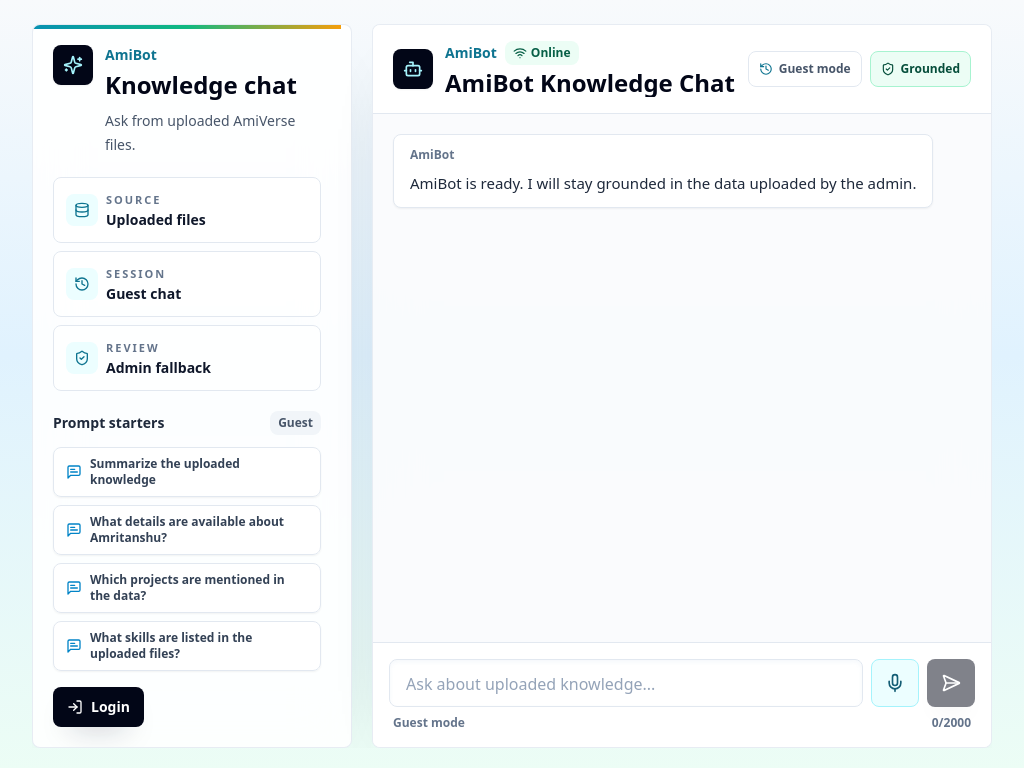
Test: recovers from a non-JSON error and excludes the error from subsequent model context
This screenshot has width=1024, height=768.
Type "When will the next project launch?" into the text box named "type your message" at (626, 683), box [389,659,863,707]
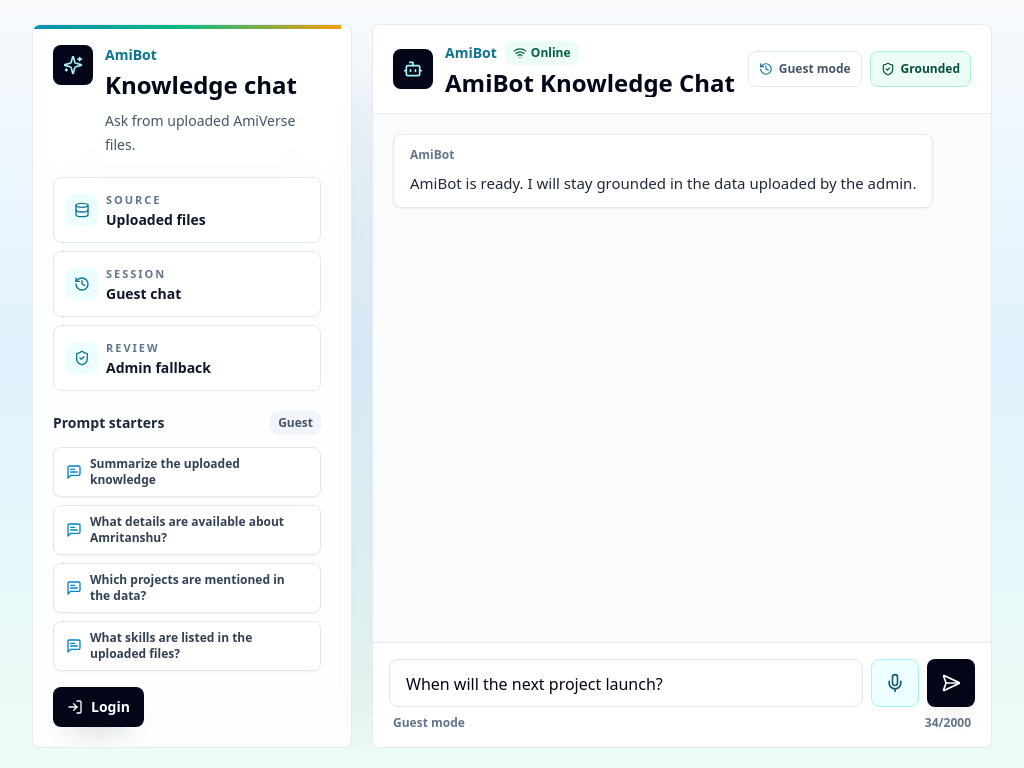
Click the button named "send message" at (951, 683), box [927,659,975,707]
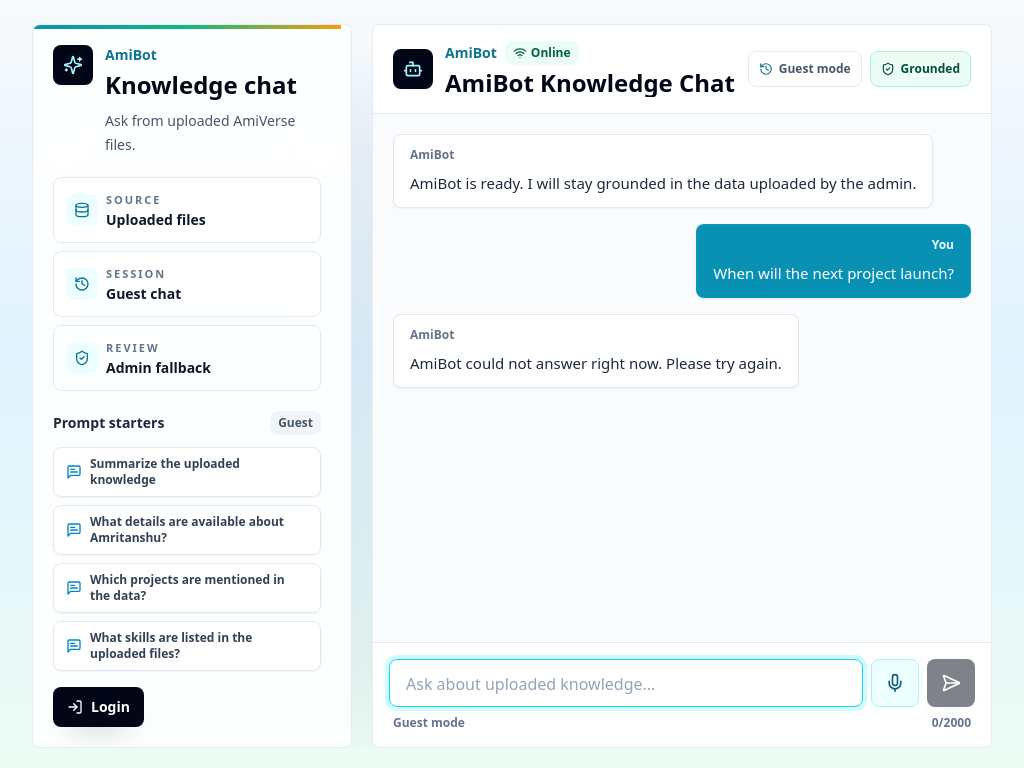
Expected: the text "AmiBot could not answer right now. Please try again." is shown, [410,351,782,375]
Type "Try again" into the text box named "type your message" at (626, 683), box [389,659,863,707]
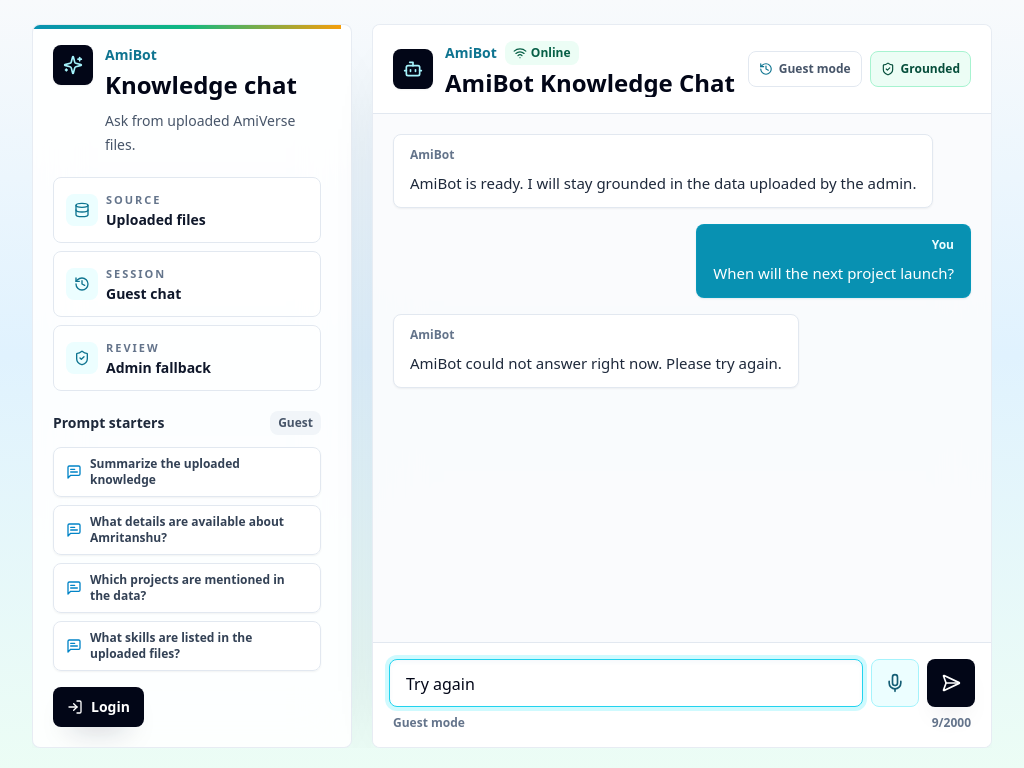
Click the button named "send message" at (951, 683), box [927,659,975,707]
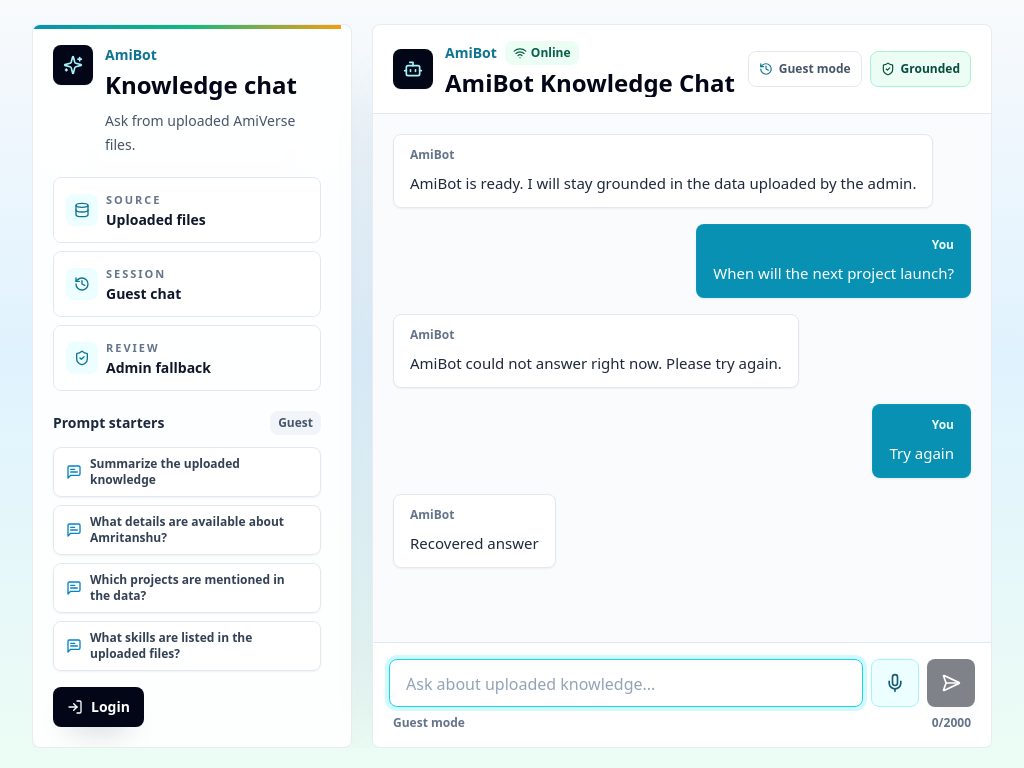
Expected: the text "Recovered answer" is shown, [410,531,539,555]
